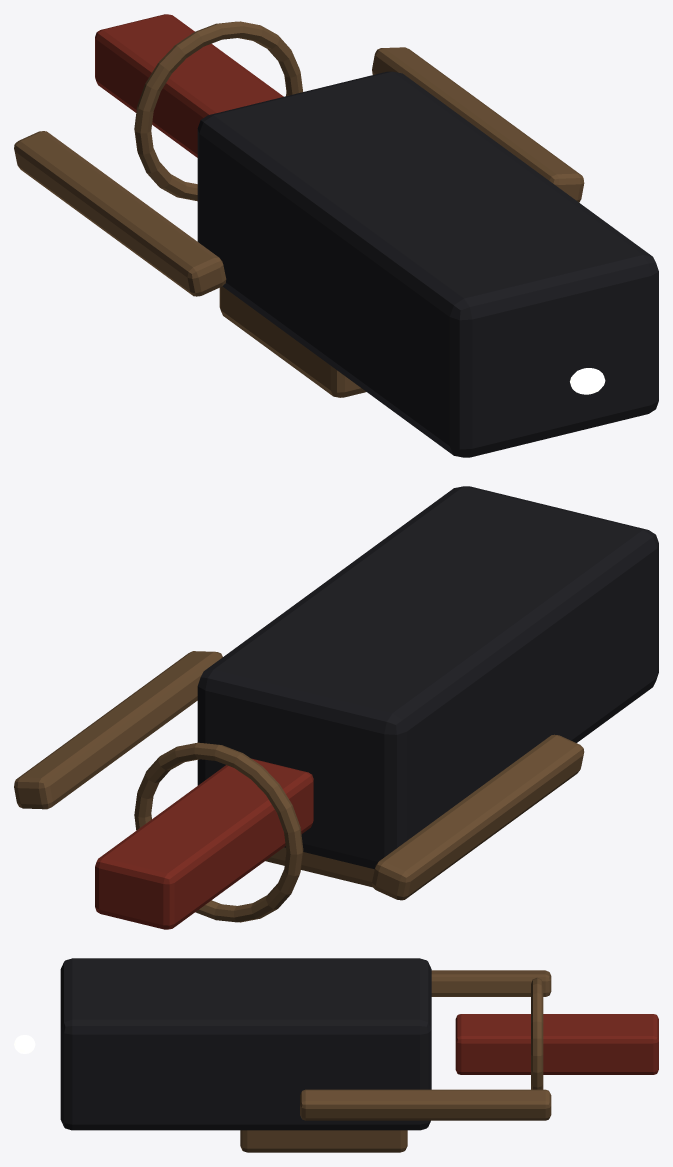
3 renders of one model, top to bottom at view 1: azimuth 30°, elevation 25°; view 2: azimuth 150°, elevation 25°; view 3: azimuth 270°, elevation 25°, orthographic. The views are drawn at different scales.
Parts seen in each view (by area): view 1: RIMWARD_HULL, RIMWARD_ENGINE_GLOW; view 2: RIMWARD_HULL; view 3: RIMWARD_HULL, RIMWARD_ENGINE_GLOW.
Boxes of the visible parts, <box> form: RIMWARD_HULL: <box>14,14,658,457</box>; RIMWARD_ENGINE_GLOW: <box>570,368,605,394</box>; RIMWARD_HULL: <box>14,486,658,929</box>; RIMWARD_HULL: <box>60,958,658,1152</box>; RIMWARD_ENGINE_GLOW: <box>14,1035,35,1053</box>.
Size of the model in its own units: 5.84 by 2.82 by 11.86.
